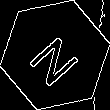N_NE: (24, 23, 86, 87)
